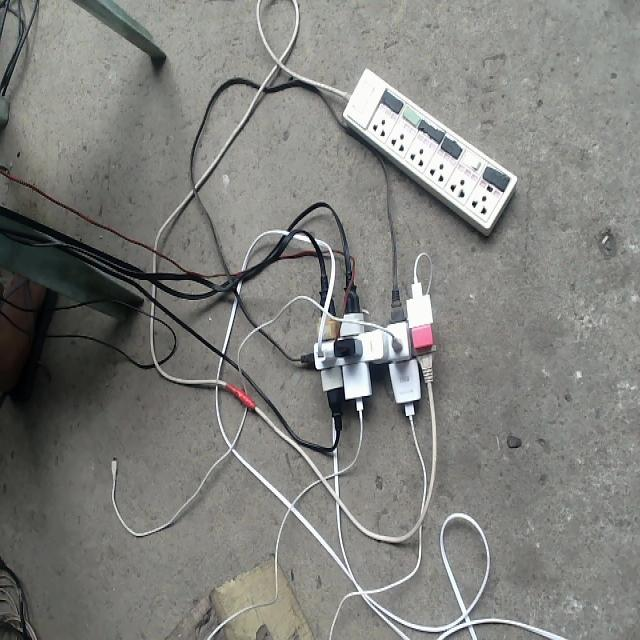-: (299, 275, 440, 424)
